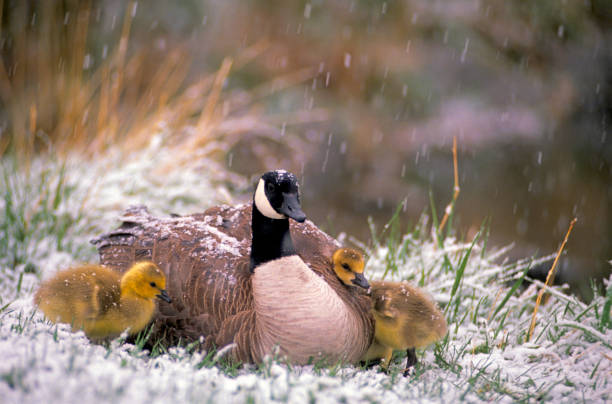goose: (103, 168, 374, 354)
